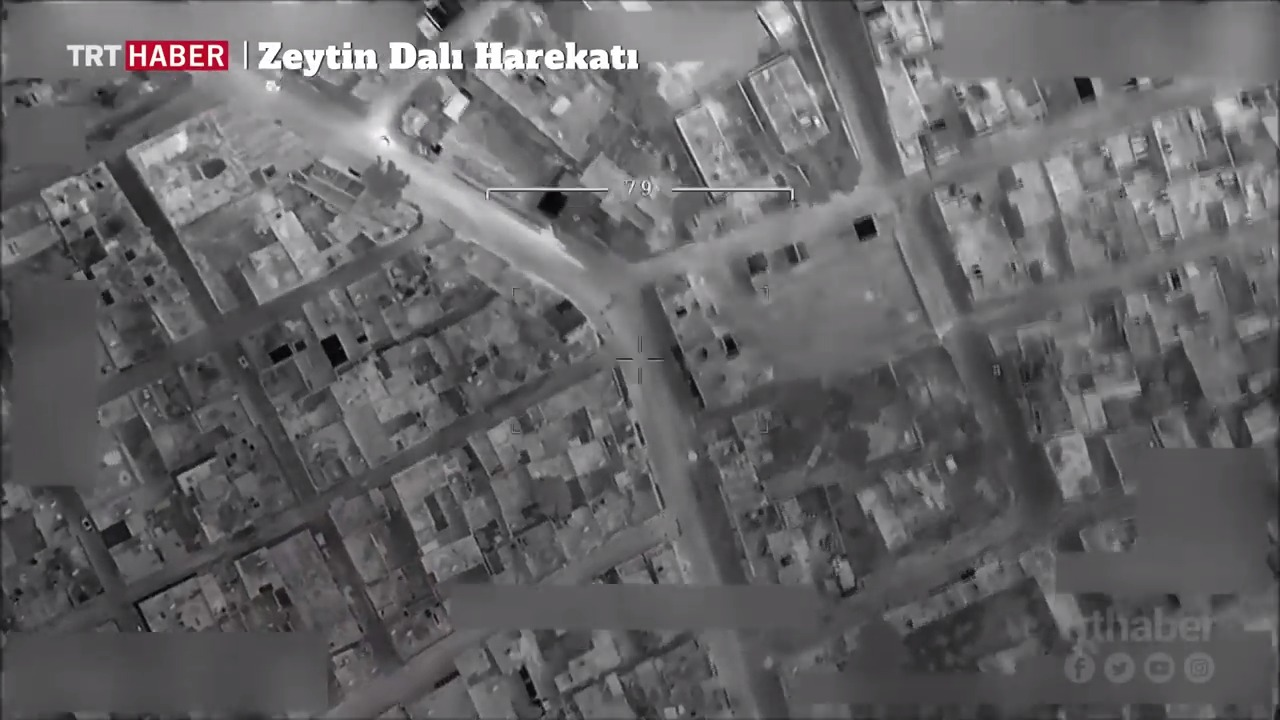bina: (112, 102, 263, 230)
